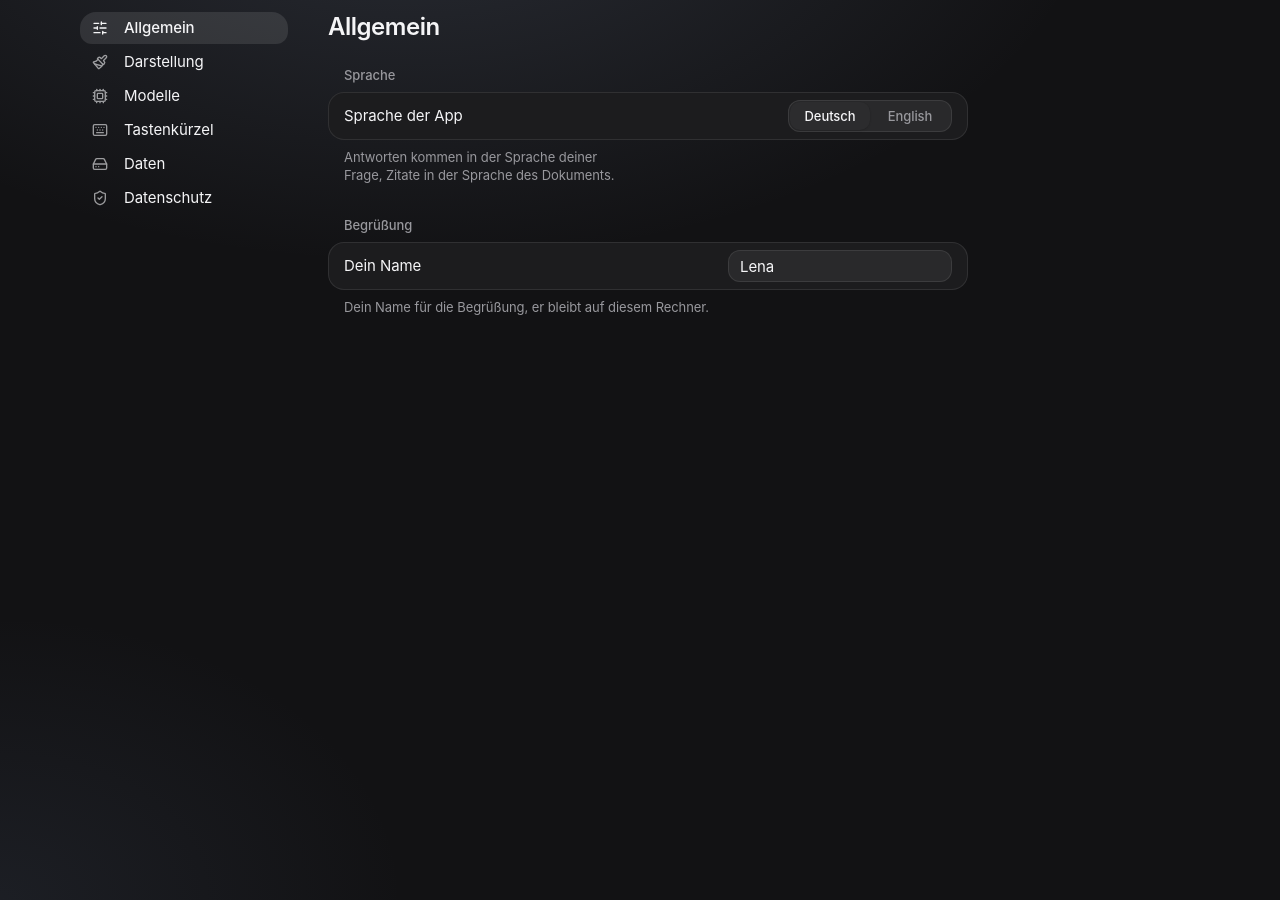
Test: SettingsView › saves a cleaned name when the field is left
The image size is (1280, 900).
Replace the text in the field labelled "Dein Name" with "  Anna  " at (840, 266), box left=728, top=250, right=952, bottom=282
Then press Enter
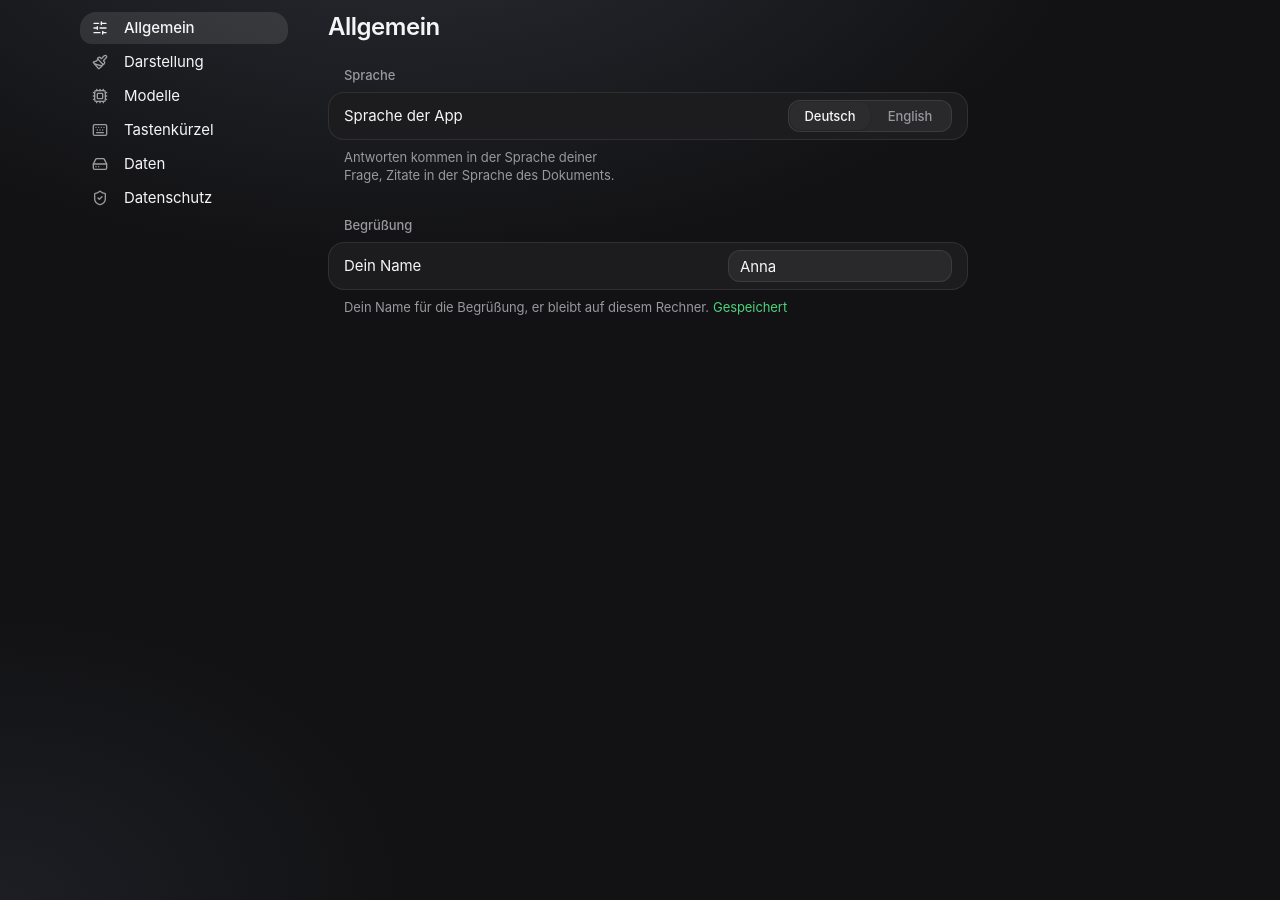
Result: the text "Gespeichert" is shown at left=713, top=299, right=787, bottom=315
